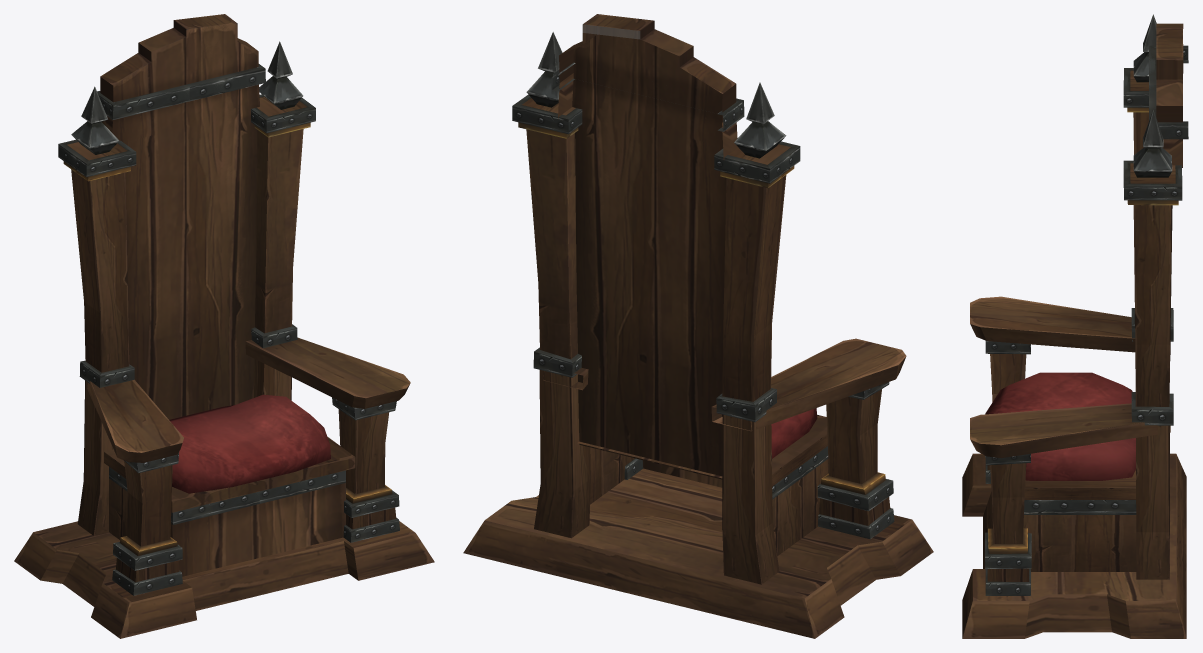
The model's file is Throne.glb.
3 views of the same model, side by side, from view 1: azimuth 30°, elevation 25°; view 2: azimuth 150°, elevation 25°; view 3: azimuth 270°, elevation 25° (orthographic). The views are drawn at different scales.
Parts seen in each view (by area): view 1: Throne; view 2: Throne; view 3: Throne.
Boxes of the visible parts, <box> form: Throne: <box>14,14,434,638</box>; Throne: <box>463,14,933,638</box>; Throne: <box>962,14,1188,638</box>.
Size of the model in its own units: 5.4 by 8.26 by 3.18.
Materials: 1 (1 with a texture image).
